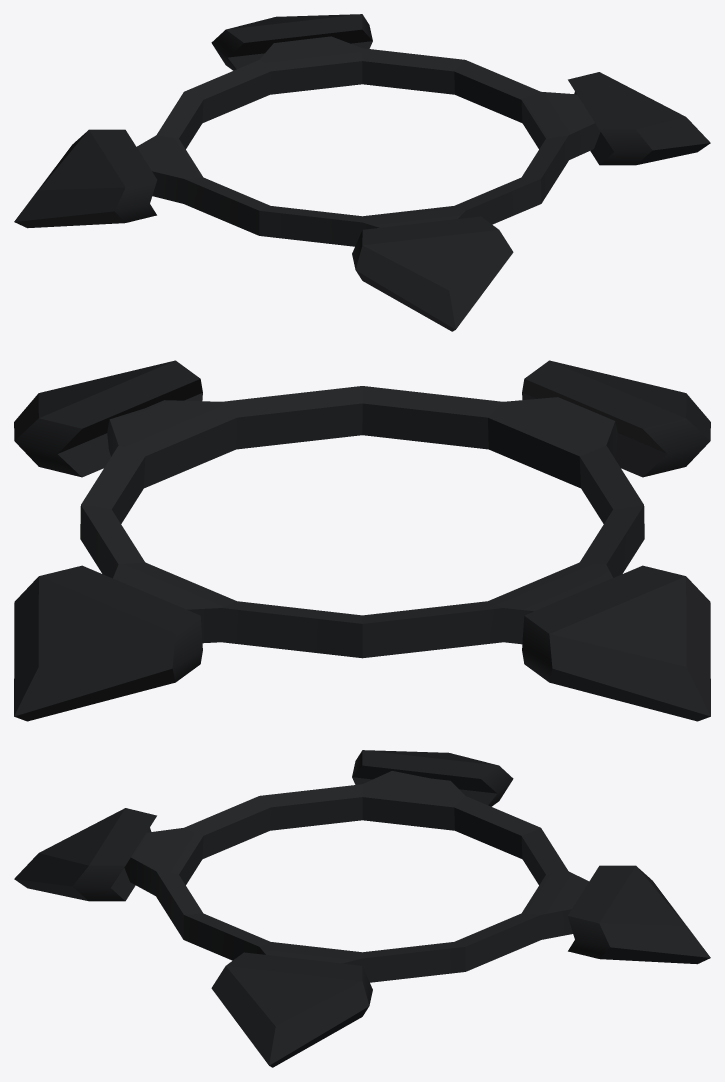
The model's file is pit_ring.gltf.
The picture shows the model from 3 angles, top to bottom: view 1: azimuth 30°, elevation 25°; view 2: azimuth 150°, elevation 25°; view 3: azimuth 270°, elevation 25°; orthographic projection. The views are drawn at different scales.
Visible parts, largest first — view 1: pit_ring; view 2: pit_ring; view 3: pit_ring.
Boxes of the visible parts, x1,y1,x2,y2 form: pit_ring: (14, 14, 710, 331); pit_ring: (14, 360, 710, 721); pit_ring: (14, 750, 710, 1067).
Bounding box in the file's own units: 25.47 × 2.44 × 25.47.
1 material, 1 textured.
